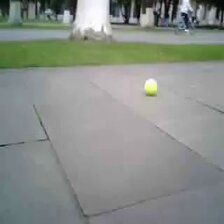tennis: (143, 78, 158, 95)
